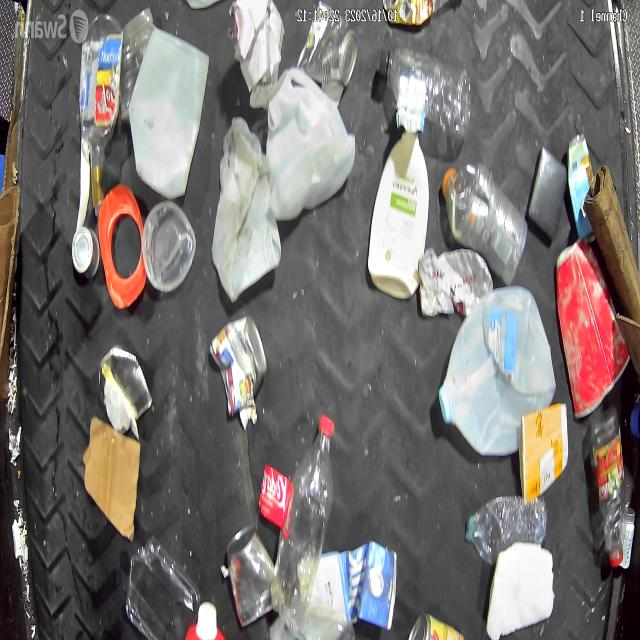can: (210, 314, 268, 415), (224, 524, 276, 630), (99, 345, 152, 427), (302, 19, 359, 92), (407, 613, 468, 640), (71, 225, 97, 282)
milk_jug: (438, 284, 555, 456), (265, 66, 356, 219)
non_white_jug: (367, 132, 430, 300), (302, 544, 395, 630)
plastic_bottle: (271, 413, 338, 636), (442, 164, 526, 285), (125, 531, 200, 640), (385, 49, 471, 135), (82, 13, 122, 173), (464, 494, 548, 567), (589, 407, 627, 566)
